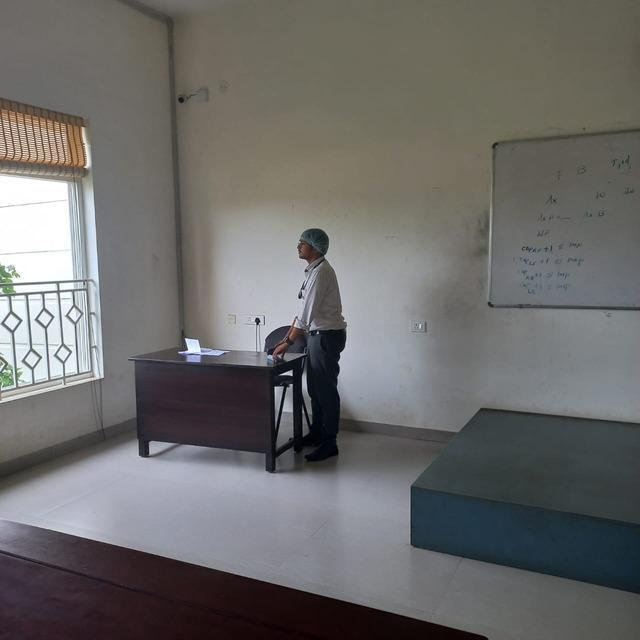bare_hand: (272, 342, 295, 360)
